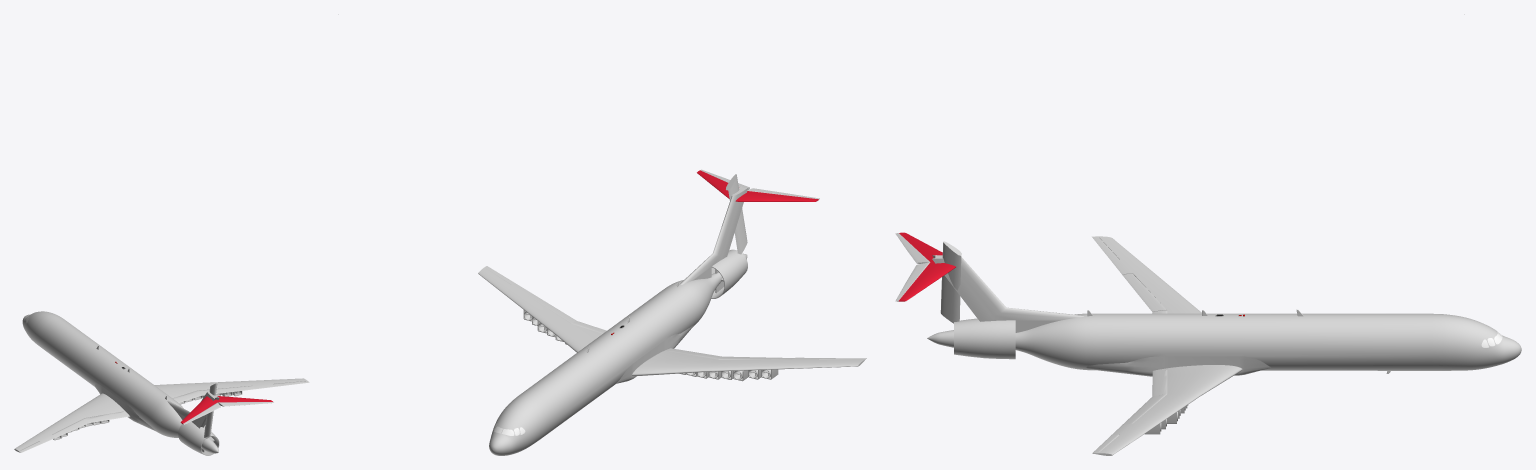
The model's file is t-TAIL.gltf.
3 views of the same model, side by side, from view 1: azimuth 30°, elevation 25°; view 2: azimuth 150°, elevation 25°; view 3: azimuth 270°, elevation 25° (orthographic). The views are drawn at different scales.
Visible parts, largest first — view 1: Cylinder, Cylinder.004, Cylinder.001, Cylinder.006, Cylinder.005; view 2: Cylinder, Cylinder.004, Cylinder.005, Cylinder.001, Cylinder.006, Cylinder.007; view 3: Cylinder, Cylinder.004, Cylinder.005, Cylinder.001, Cylinder.007, Cylinder.006.
Part boxes in pixels (<box>): Cylinder: <box>22,311,218,453</box>; Cylinder.004: <box>14,378,309,452</box>; Cylinder.001: <box>178,421,219,455</box>; Cylinder.006: <box>180,396,272,423</box>; Cylinder.005: <box>167,391,219,428</box>; Cylinder: <box>489,253,747,455</box>; Cylinder.004: <box>478,266,866,376</box>; Cylinder.005: <box>679,186,748,284</box>; Cylinder.001: <box>711,249,747,298</box>; Cylinder.006: <box>697,170,818,201</box>; Cylinder.007: <box>726,174,747,254</box>; Cylinder: <box>927,313,1521,376</box>; Cylinder.004: <box>1092,236,1242,455</box>; Cylinder.005: <box>932,255,1084,332</box>; Cylinder.001: <box>954,318,1015,359</box>; Cylinder.007: <box>940,241,961,323</box>; Cylinder.006: <box>898,232,955,301</box>.
Size of the model in its own units: 34.84 by 34.67 by 42.54.
